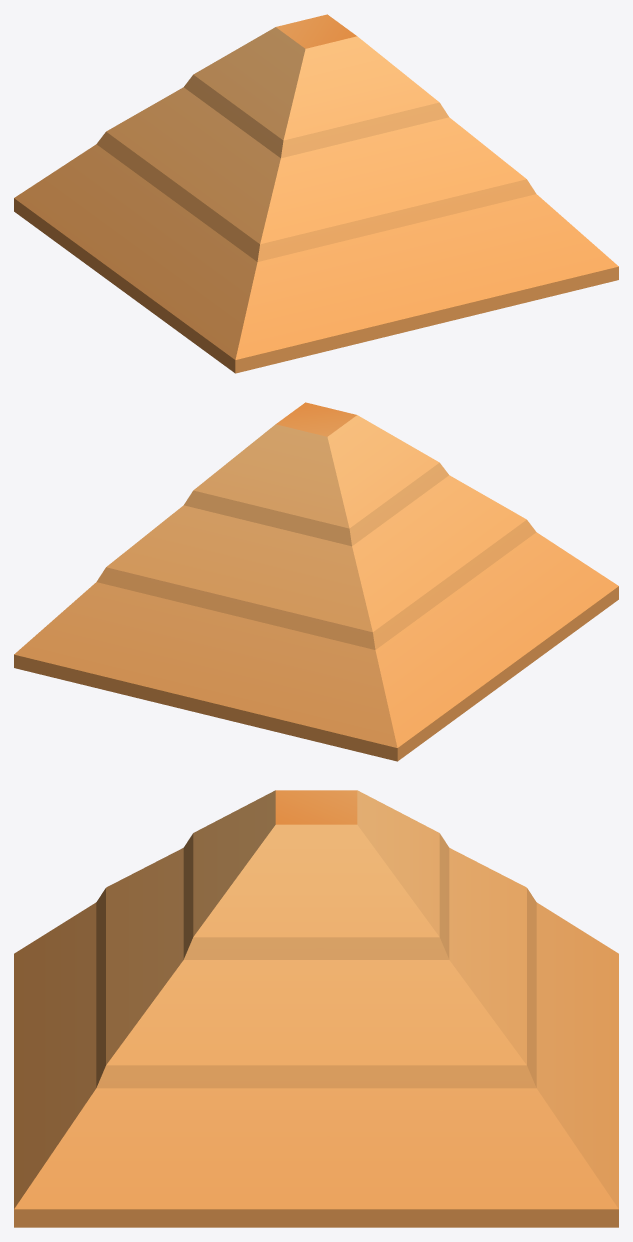
File: Roof_Peak_01.fbx
3 renders of one model, top to bottom at view 1: azimuth 30°, elevation 25°; view 2: azimuth 150°, elevation 25°; view 3: azimuth 270°, elevation 25°, orthographic. The views are drawn at different scales.
Visible parts, largest first — view 1: Roof_Peak_01; view 2: Roof_Peak_01; view 3: Roof_Peak_01.
Part boxes in pixels (<box>): Roof_Peak_01: <box>14,14,618,373</box>; Roof_Peak_01: <box>14,402,618,761</box>; Roof_Peak_01: <box>14,790,618,1227</box>.
Size of the model in its own units: 4 by 2.13 by 4.
